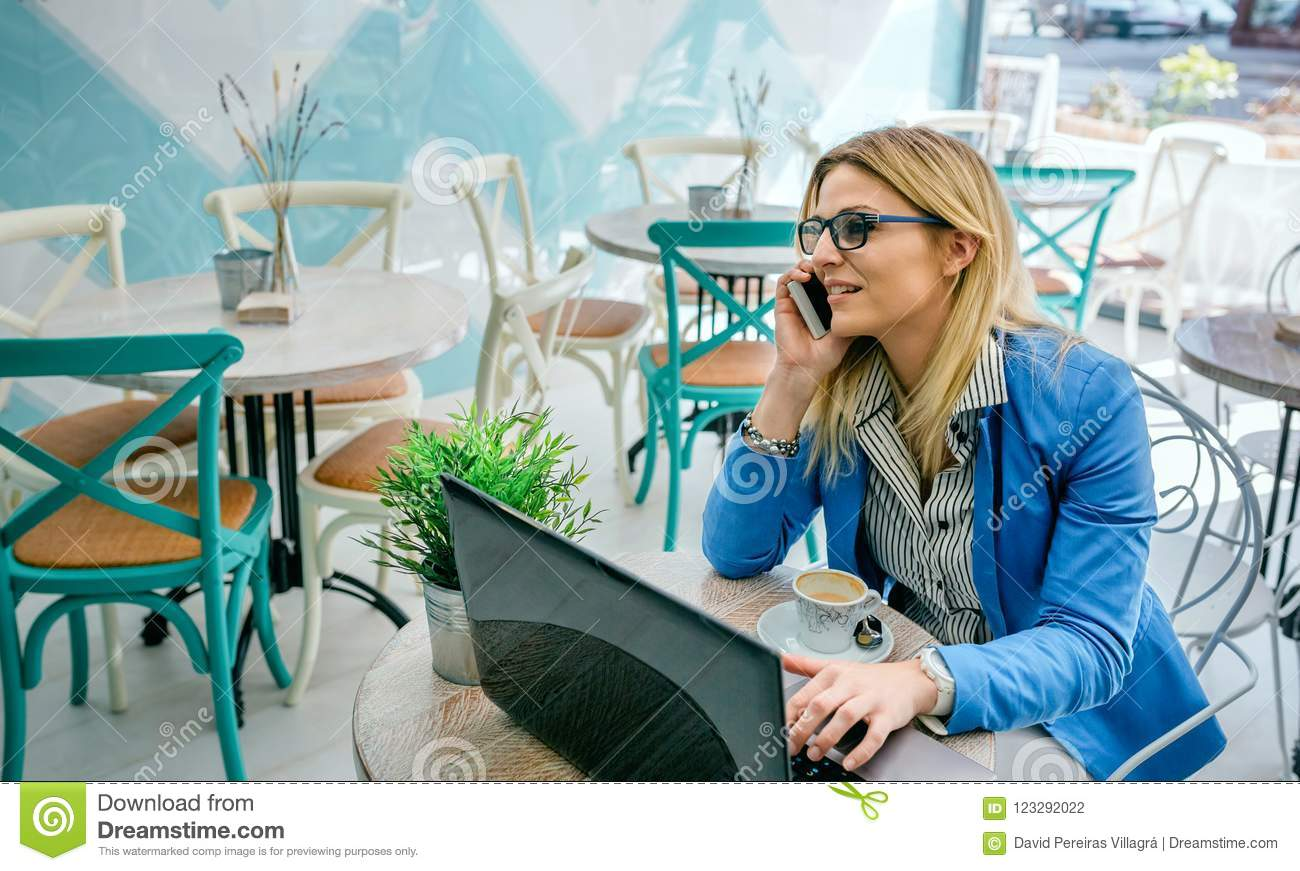phone: (789, 266, 833, 339)
talk: (774, 195, 890, 379)
